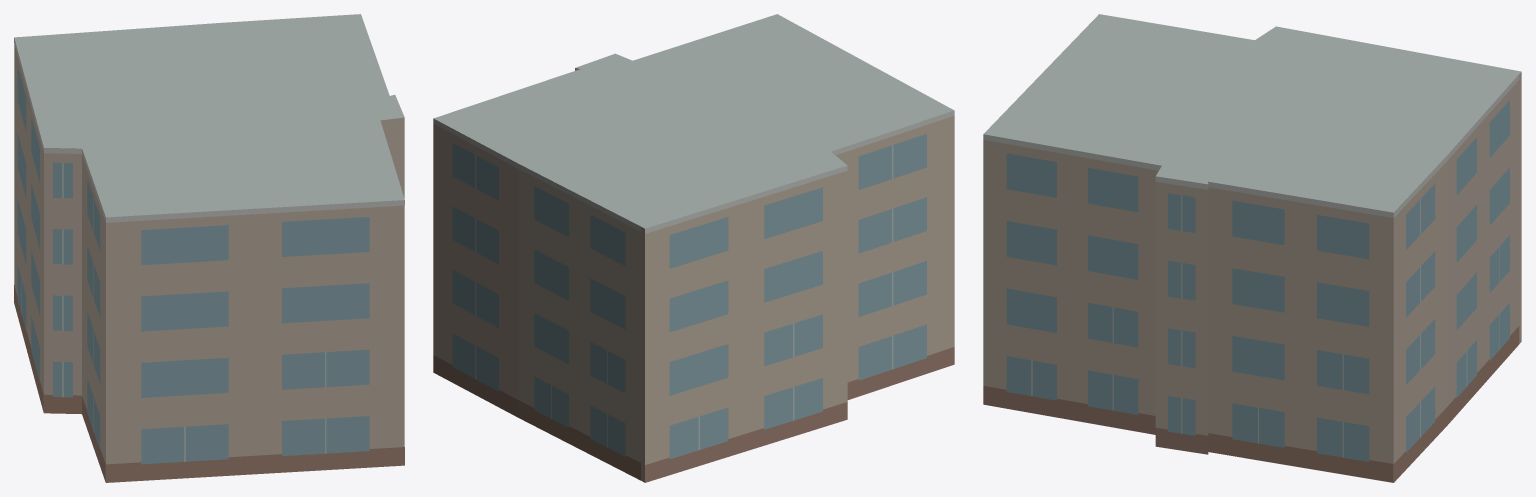
Rendered from survey-upis-32772029.glb.
3 views of the same model, side by side, from view 1: azimuth 30°, elevation 25°; view 2: azimuth 150°, elevation 25°; view 3: azimuth 270°, elevation 25° (orthographic). The views are drawn at different scales.
Parts seen in each view (by area): view 1: survey-upis-32772029.tmp; view 2: survey-upis-32772029.tmp; view 3: survey-upis-32772029.tmp.
Boxes of the visible parts, x1,y1,x2,y2 form: survey-upis-32772029.tmp: [14, 14, 404, 482]; survey-upis-32772029.tmp: [433, 14, 954, 482]; survey-upis-32772029.tmp: [983, 14, 1521, 482].
Bounding box in the file's own units: 18.68 × 11.85 × 21.41.
